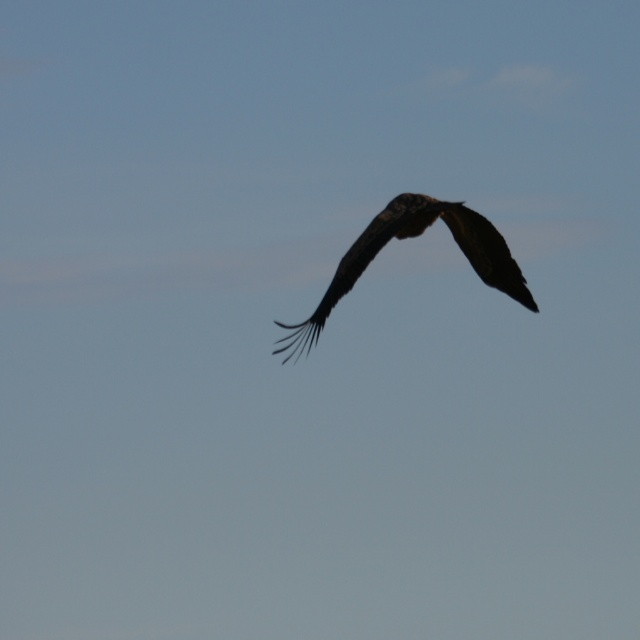Eagle: (270, 187, 540, 367)
